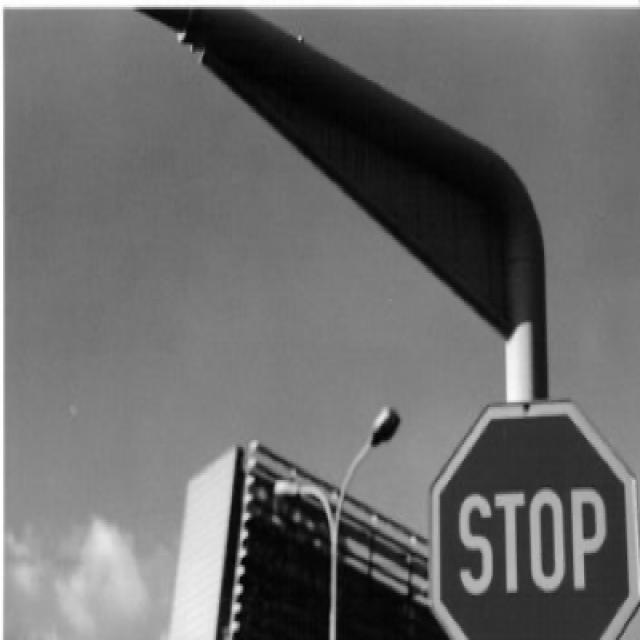Stop-signs: (432, 401, 640, 640)
